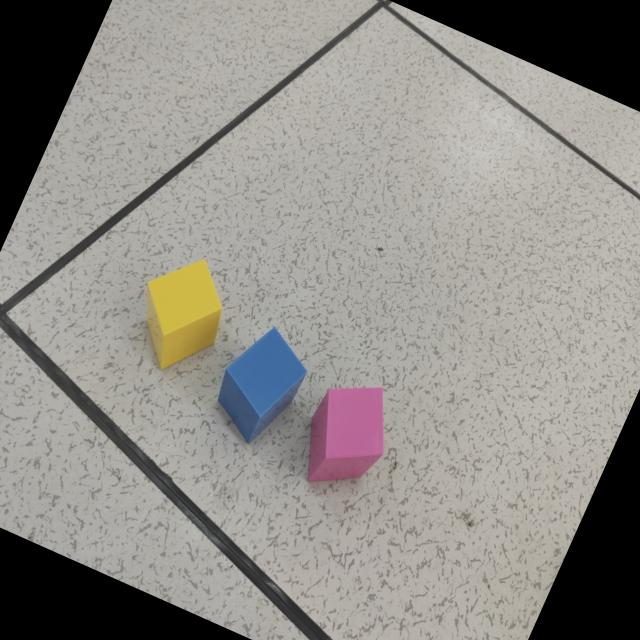blue: (217, 329, 308, 444)
pink: (306, 388, 385, 485)
yellow: (145, 261, 222, 370)
